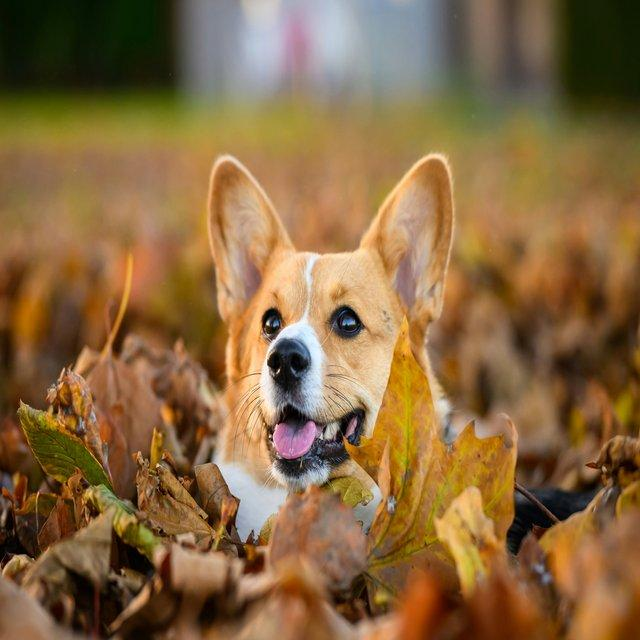corgi: (204, 149, 458, 543)
